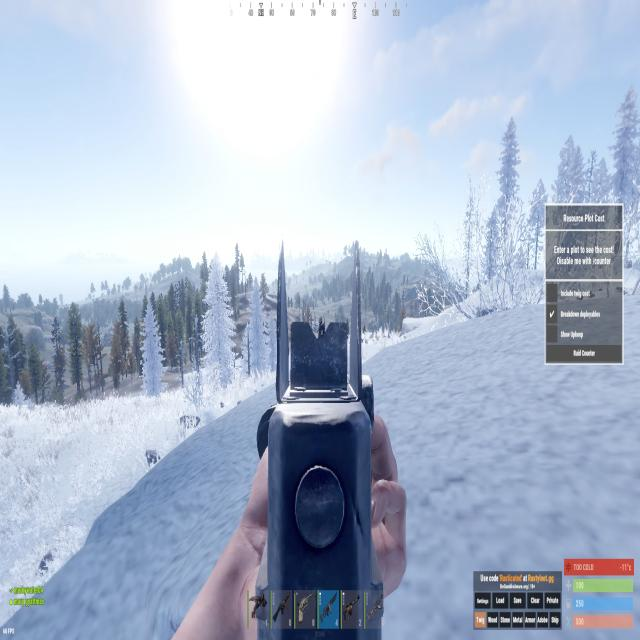Player: (318, 315, 326, 340)
